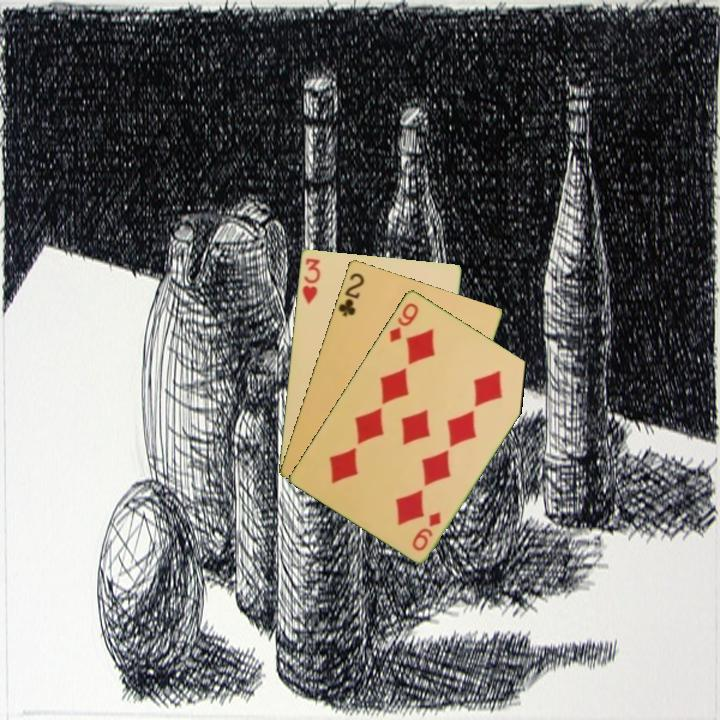2c: (334, 269, 367, 319)
3h: (298, 254, 323, 308)
9d: (385, 299, 421, 345), (408, 508, 444, 554)
